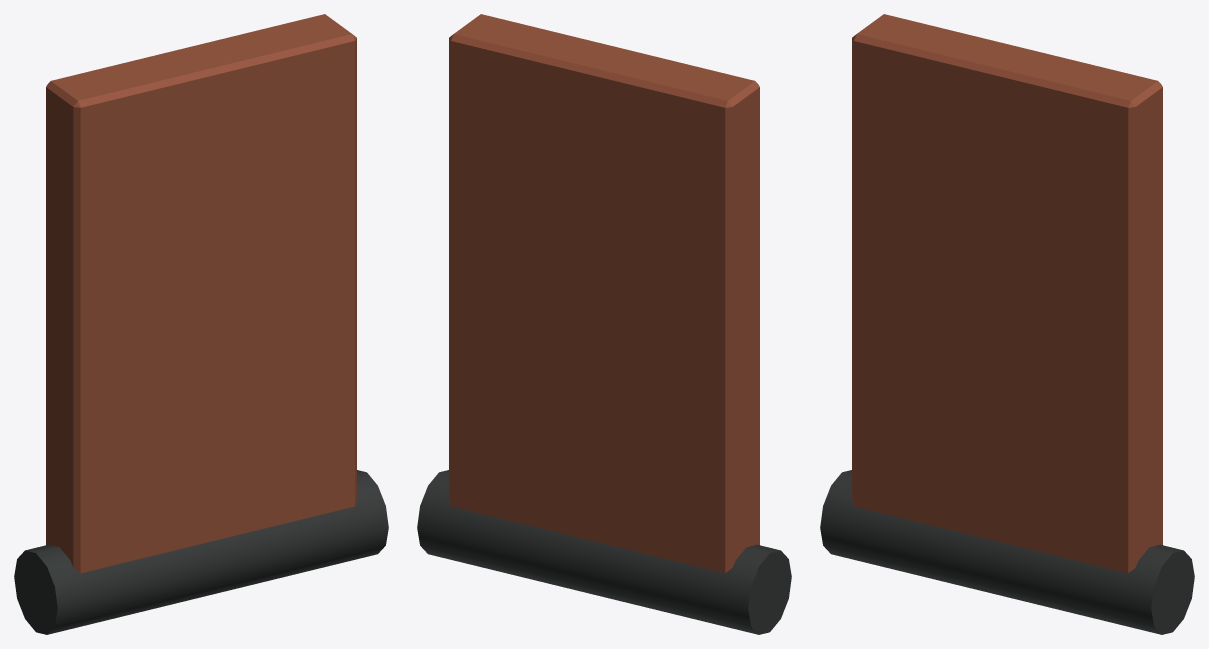
File: cantilever_rack_left_stop_1.glb
3 views of the same model, side by side, from view 1: azimuth 30°, elevation 25°; view 2: azimuth 150°, elevation 25°; view 3: azimuth 330°, elevation 25° (orthographic).
Visible parts, largest first — view 1: cantilever_rack_left_stop_1.001; view 2: cantilever_rack_left_stop_1.001; view 3: cantilever_rack_left_stop_1.001.
Part boxes in pixels (x1,y1,x2,y2): cantilever_rack_left_stop_1.001: [14, 14, 388, 634]; cantilever_rack_left_stop_1.001: [417, 14, 791, 634]; cantilever_rack_left_stop_1.001: [820, 14, 1194, 634].
Size of the model in its own units: 0.07 by 0.108 by 0.016.
